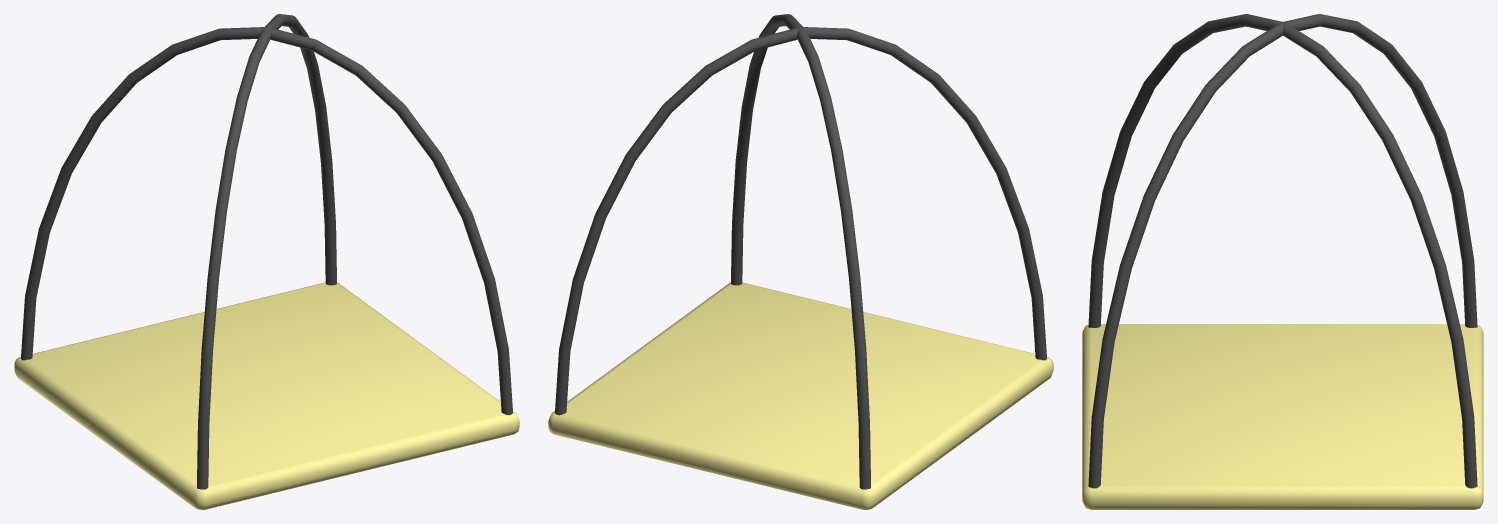
File: basket3-1.fbx
3 renders of one model, left to right at view 1: azimuth 30°, elevation 25°; view 2: azimuth 150°, elevation 25°; view 3: azimuth 270°, elevation 25°, orthographic. The views are drawn at different scales.
Visible parts, largest first — view 1: Cube.017, Circle.003; view 2: Cube.017, Circle.003; view 3: Cube.017, Circle.003.
Part boxes in pixels (<box>): Cube.017: <box>14,282,519,509</box>; Circle.003: <box>21,14,512,489</box>; Cube.017: <box>548,282,1053,509</box>; Circle.003: <box>555,14,1046,489</box>; Cube.017: <box>1082,324,1483,509</box>; Circle.003: <box>1088,14,1477,488</box>.
Bounding box in the file's own units: 393 × 438 × 393.
